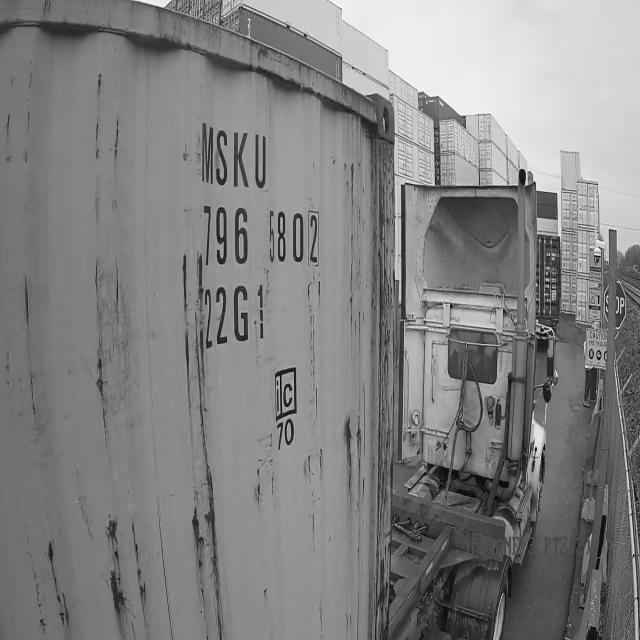container_side_no: (188, 114, 333, 349)
truck_with_container: (0, 0, 558, 639)
